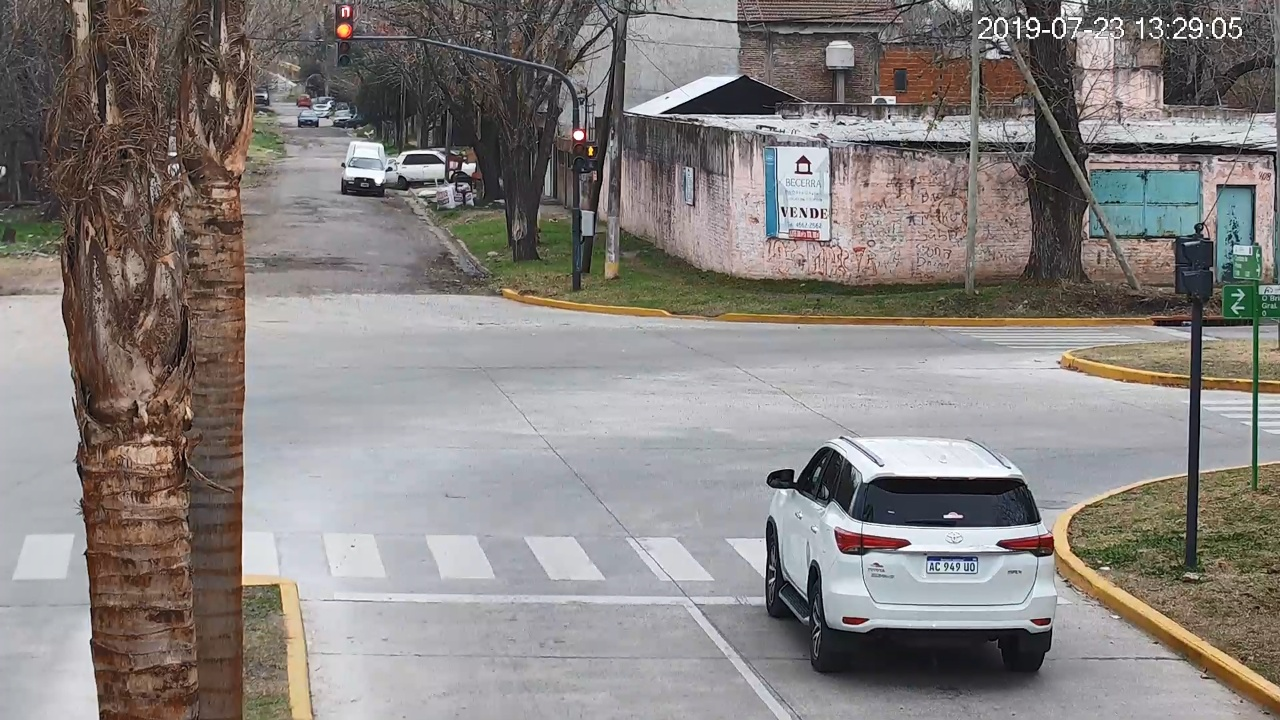car: (767, 434, 1058, 671)
traffic light: (338, 21, 352, 65), (572, 129, 585, 170)
